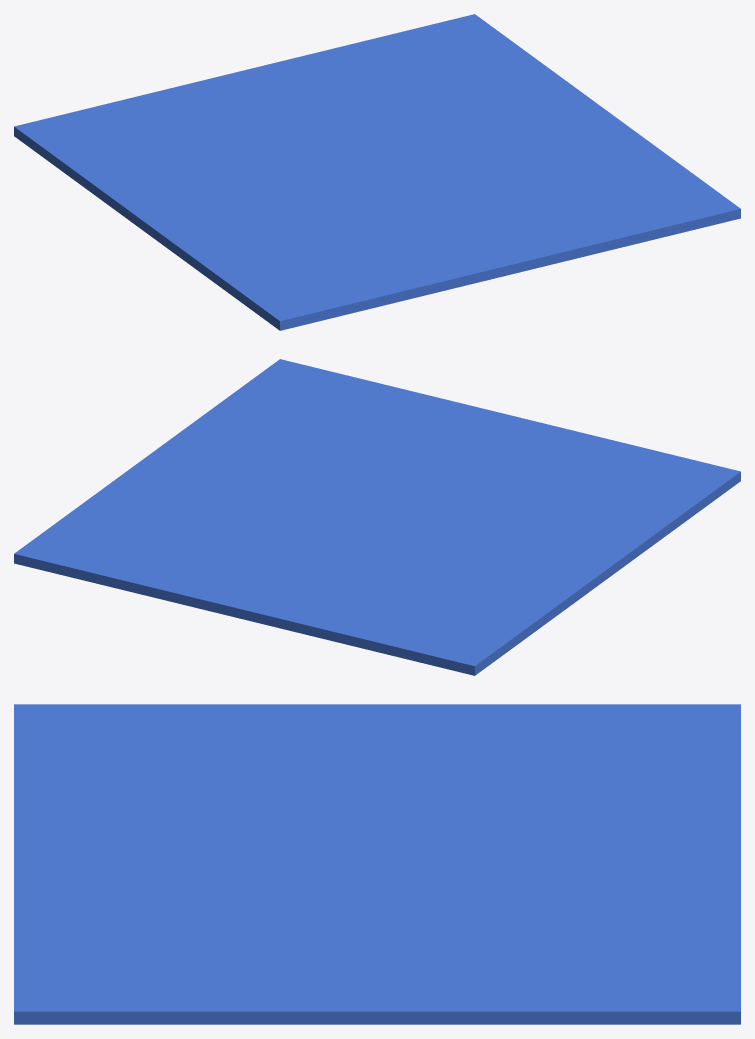
The model's file is PM_PlasticSheetfbx.fbx.
3 views of the same model, one above another, from view 1: azimuth 30°, elevation 25°; view 2: azimuth 150°, elevation 25°; view 3: azimuth 270°, elevation 25° (orthographic). The views are drawn at different scales.
Parts seen in each view (by area): view 1: PlasticSheet; view 2: PlasticSheet; view 3: PlasticSheet.
Part boxes in pixels (x1,y1,x2,y2): PlasticSheet: (14, 14, 740, 330); PlasticSheet: (14, 359, 740, 675); PlasticSheet: (14, 704, 740, 1024).
Size of the model in its own units: 0.8684 by 0.8684 by 0.0174.
